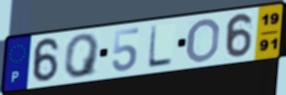5: (110, 26, 141, 73)
6: (31, 36, 62, 85), (224, 12, 255, 60)
L: (146, 24, 175, 70)
O: (185, 17, 222, 64)
Q: (64, 32, 102, 80)
